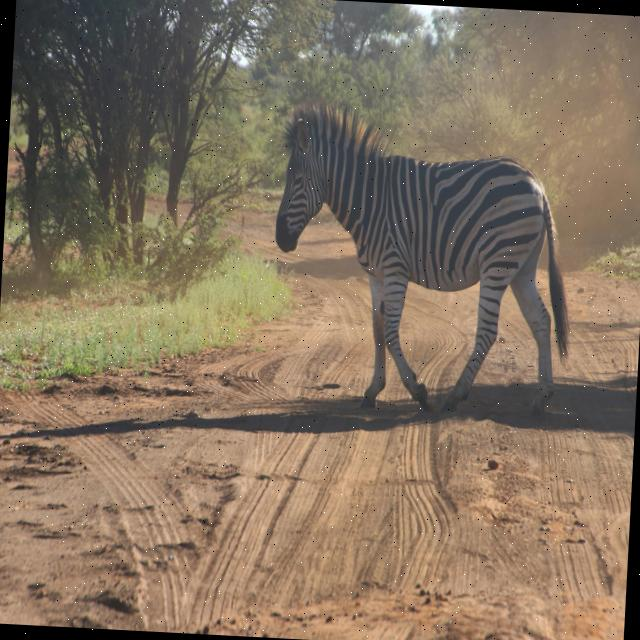Zebra: (266, 100, 580, 425)
